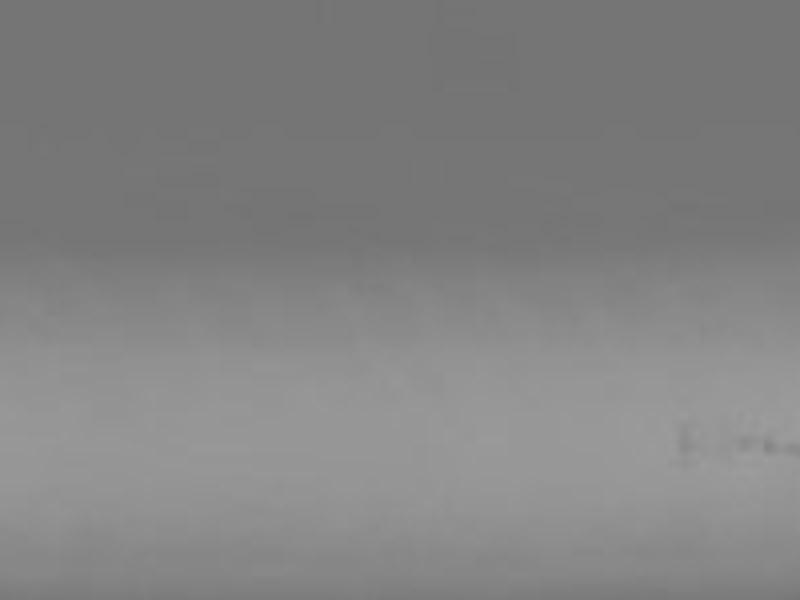defect: (670, 418, 694, 455), (782, 438, 800, 461), (760, 433, 777, 455), (735, 431, 755, 449)
